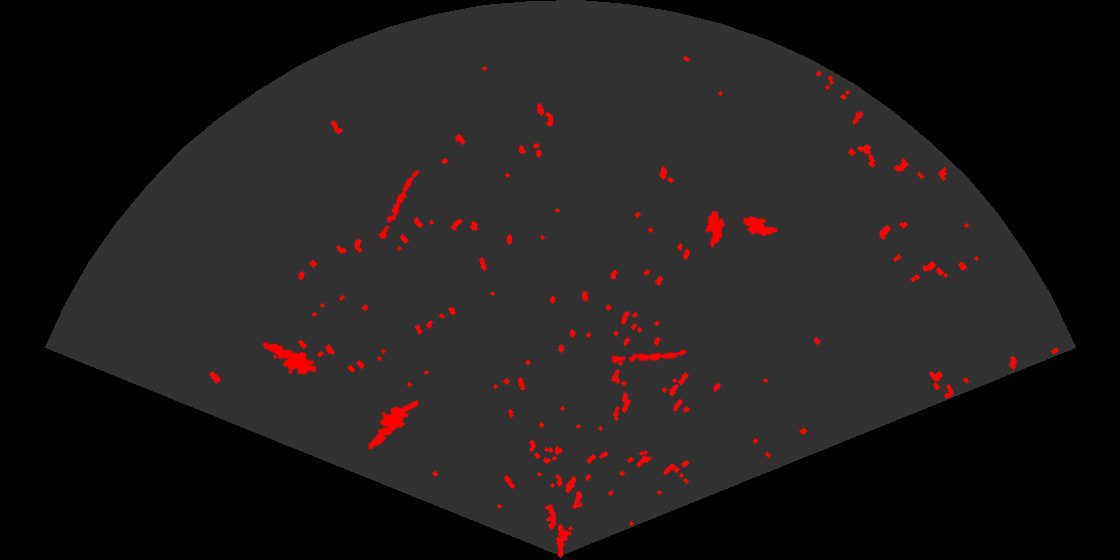AUV: (704, 209, 727, 250), (741, 214, 780, 238)
chain: (377, 168, 421, 243), (609, 348, 688, 366)
frogman: (366, 398, 418, 451), (260, 341, 316, 377)
